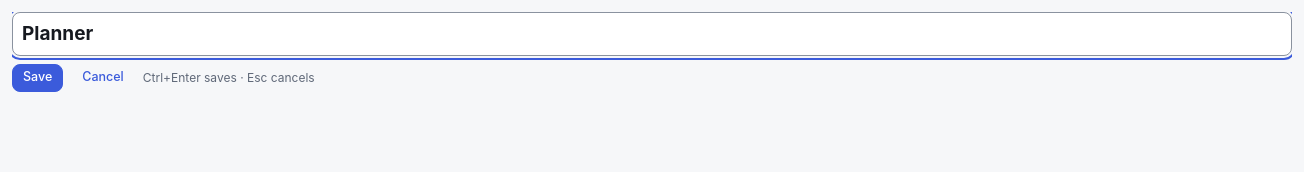
Test case: InlineEditor › asks to confirm before Esc discards a change
Later steps or results of the test are not shown.
In the field named "Edit title": (652, 34) [12,12,1292,56], type " v2"
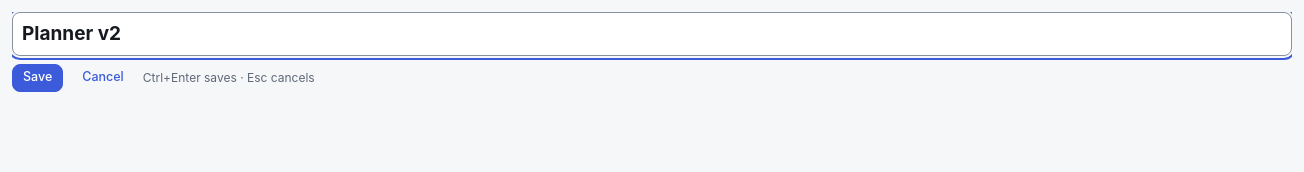
Press Escape
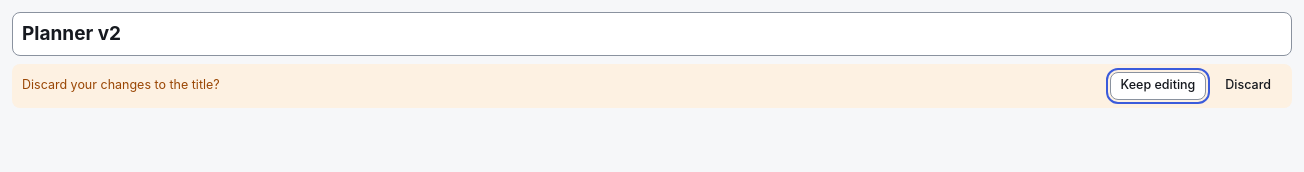
Result: the message shows "Discard your changes to the title?" at [12,64,1292,108]
